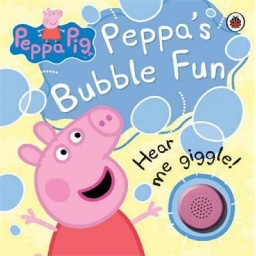Peppa: (17, 103, 164, 256)
